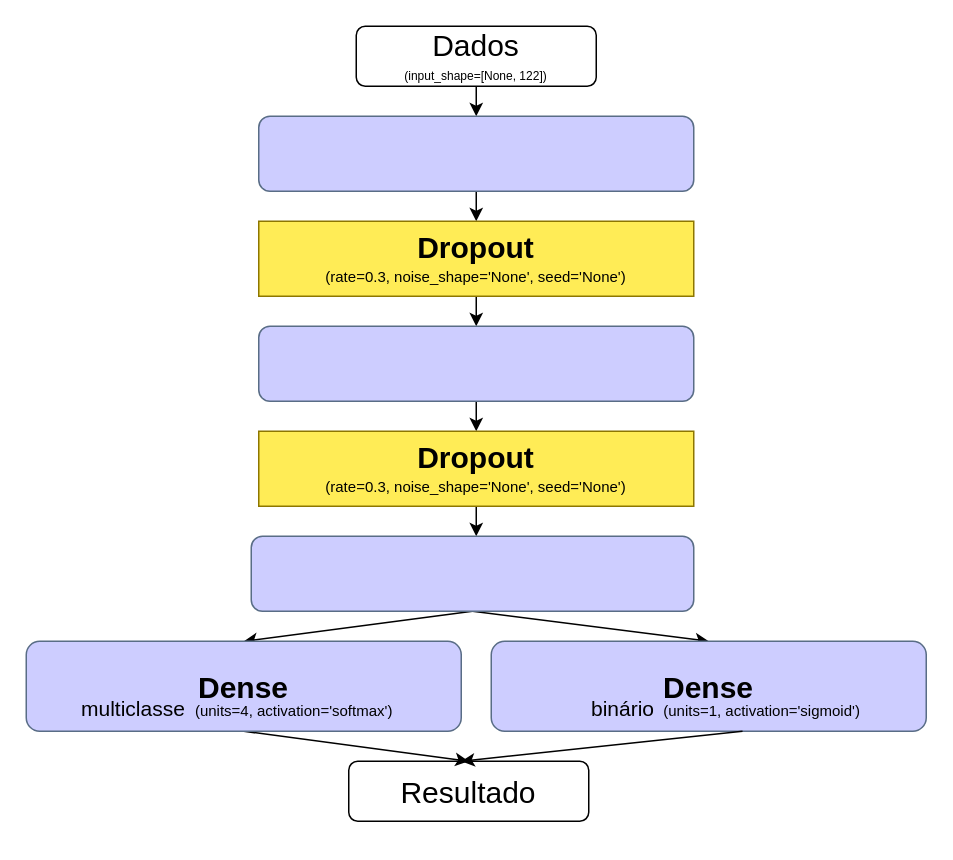
Some shapes in this 953 by 860 pixel diagram are drawn without their labels. Each missing label, with the box of its shape:
Dense ( units=128 , activation='relu'): (257, 115, 694, 191)
Dense ( units=32, activation='relu' ): (250, 535, 694, 611)
Dense (units=64, activation='relu'): (257, 325, 694, 401)
